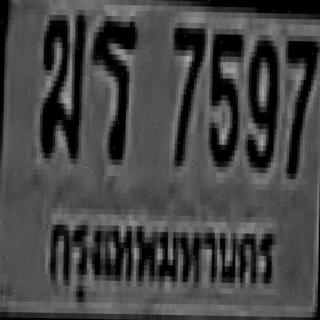A06: (36, 9, 83, 153)
A35: (89, 15, 135, 160)
N05: (206, 28, 242, 161)
N07: (169, 22, 203, 161), (284, 35, 317, 174)
N09: (244, 34, 275, 168)
P04: (39, 201, 278, 313)
